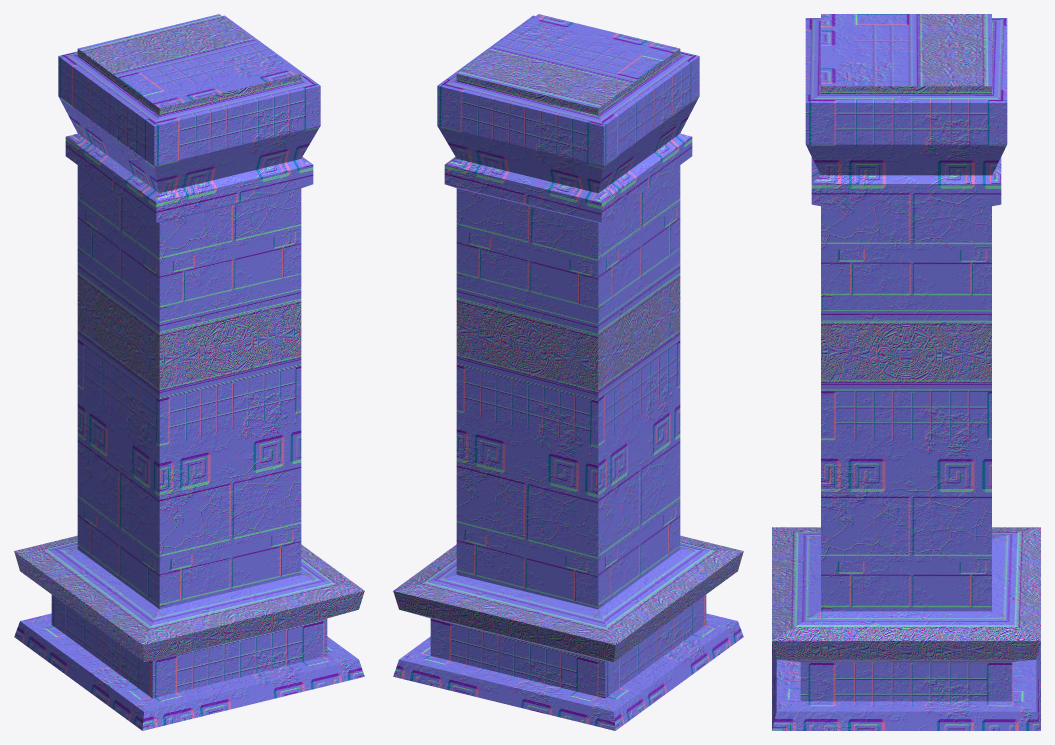
File: pillar_full.fbx
The picture shows the model from 3 angles, left to right: view 1: azimuth 30°, elevation 25°; view 2: azimuth 150°, elevation 25°; view 3: azimuth 270°, elevation 25°; orthographic projection. The views are drawn at different scales.
Parts seen in each view (by area): view 1: Full_pillar; view 2: Full_pillar; view 3: Full_pillar.
Boxes of the visible parts, x1=… form: Full_pillar: x1=14, y1=14, x2=364, y2=730; Full_pillar: x1=393, y1=14, x2=743, y2=730; Full_pillar: x1=772, y1=14, x2=1040, y2=730.
Size of the model in its own units: 156 by 400 by 156.
